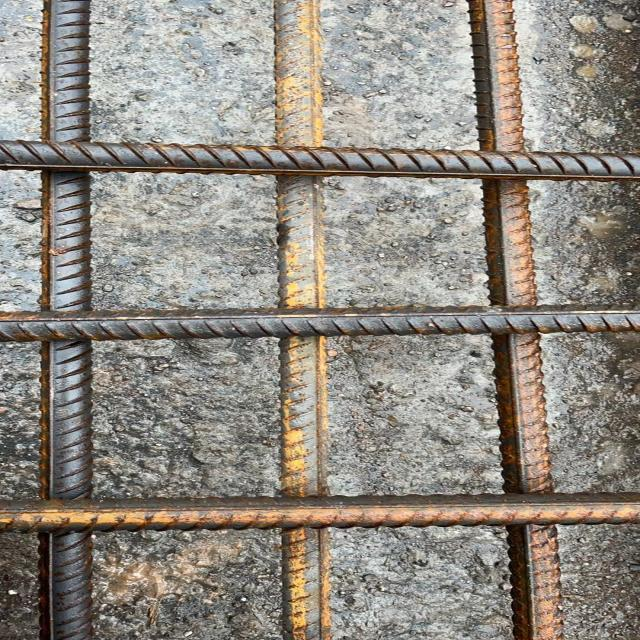ribbed bar: (467, 0, 564, 639), (36, 0, 92, 639), (273, 0, 327, 639), (0, 139, 639, 183), (0, 492, 639, 533), (0, 304, 639, 340)
